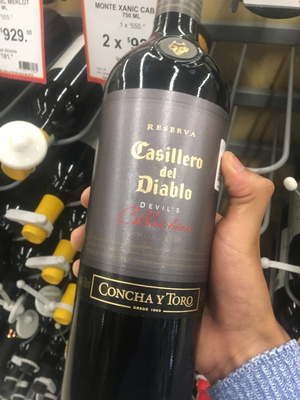casillero del diablo devils collection rojo: (77, 10, 225, 400)
